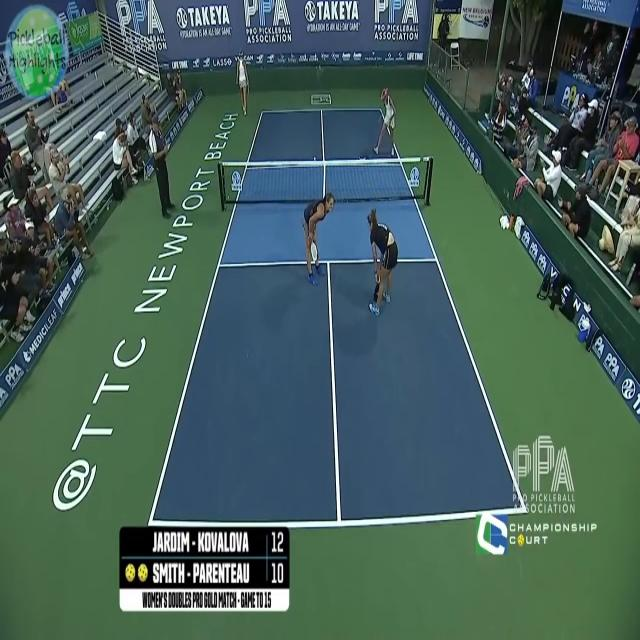Court: (151, 107, 526, 524)
ball: (311, 151, 321, 167)
